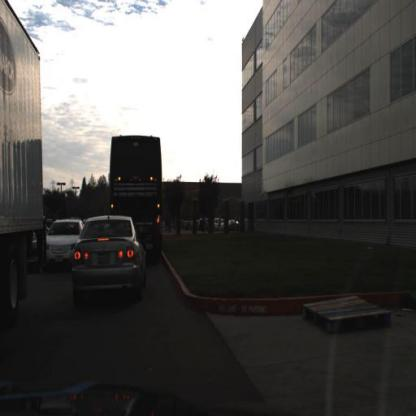car: (69, 212, 145, 287), (40, 214, 84, 265), (210, 213, 226, 231)
truck: (0, 0, 51, 321), (108, 132, 164, 250)
